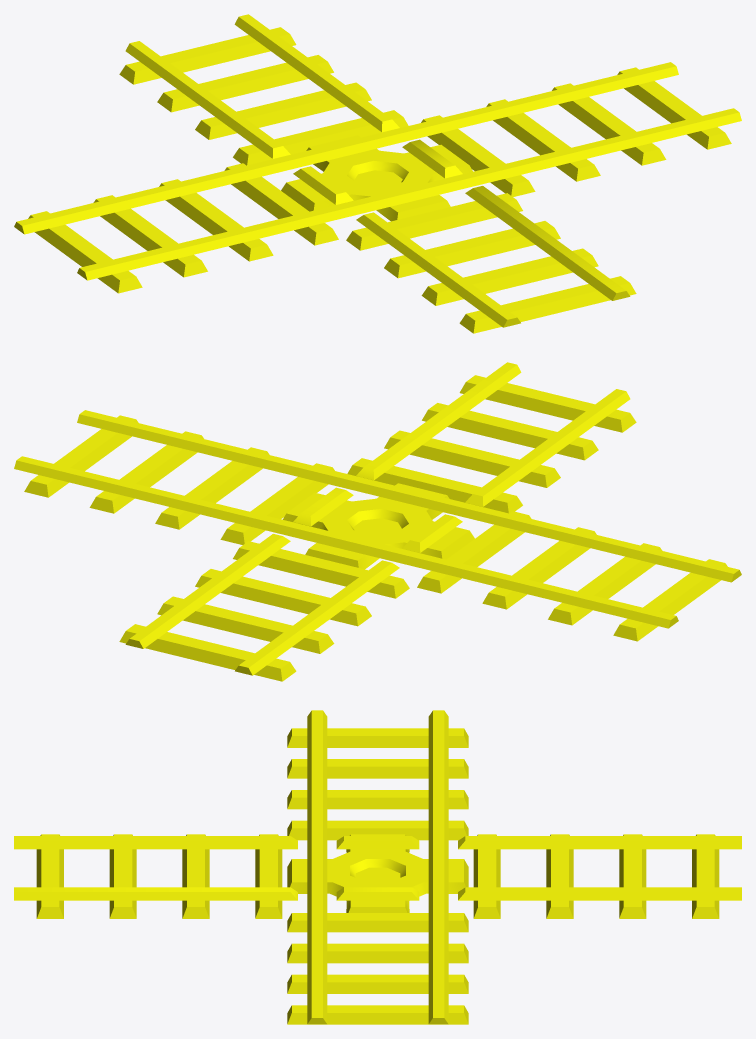
The model's file is kaykit-tracks-crossing.glb.
3 renders of one model, top to bottom at view 1: azimuth 30°, elevation 25°; view 2: azimuth 150°, elevation 25°; view 3: azimuth 270°, elevation 25°, orthographic. The views are drawn at different scales.
Parts seen in each view (by area): view 1: tracks_crossing; view 2: tracks_crossing; view 3: tracks_crossing.
Part boxes in pixels (x1,y1,x2,y2): tracks_crossing: (14,14,741,333); tracks_crossing: (14,362,741,681); tracks_crossing: (14,710,741,1024).
Size of the model in its own units: 2 by 0.0501 by 2.
